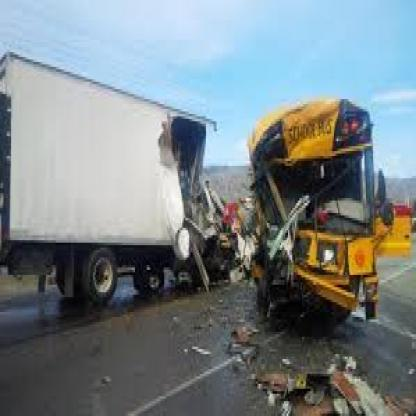accident: (79, 63, 404, 347)
